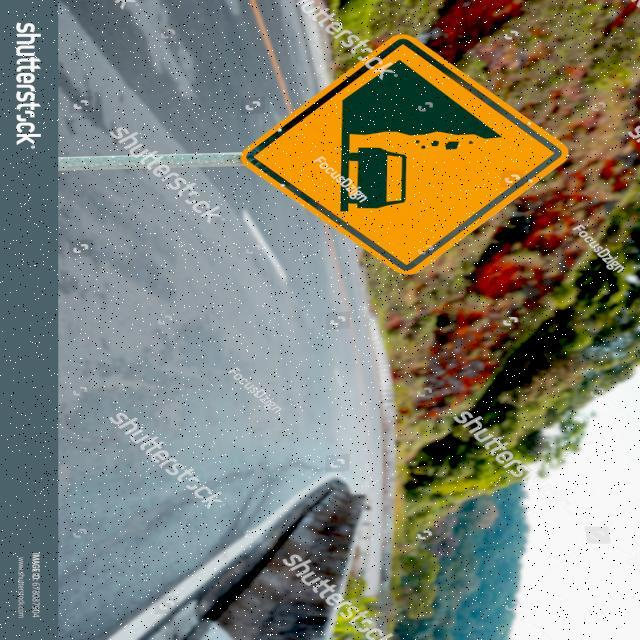Traffic sign: (239, 29, 574, 277)
